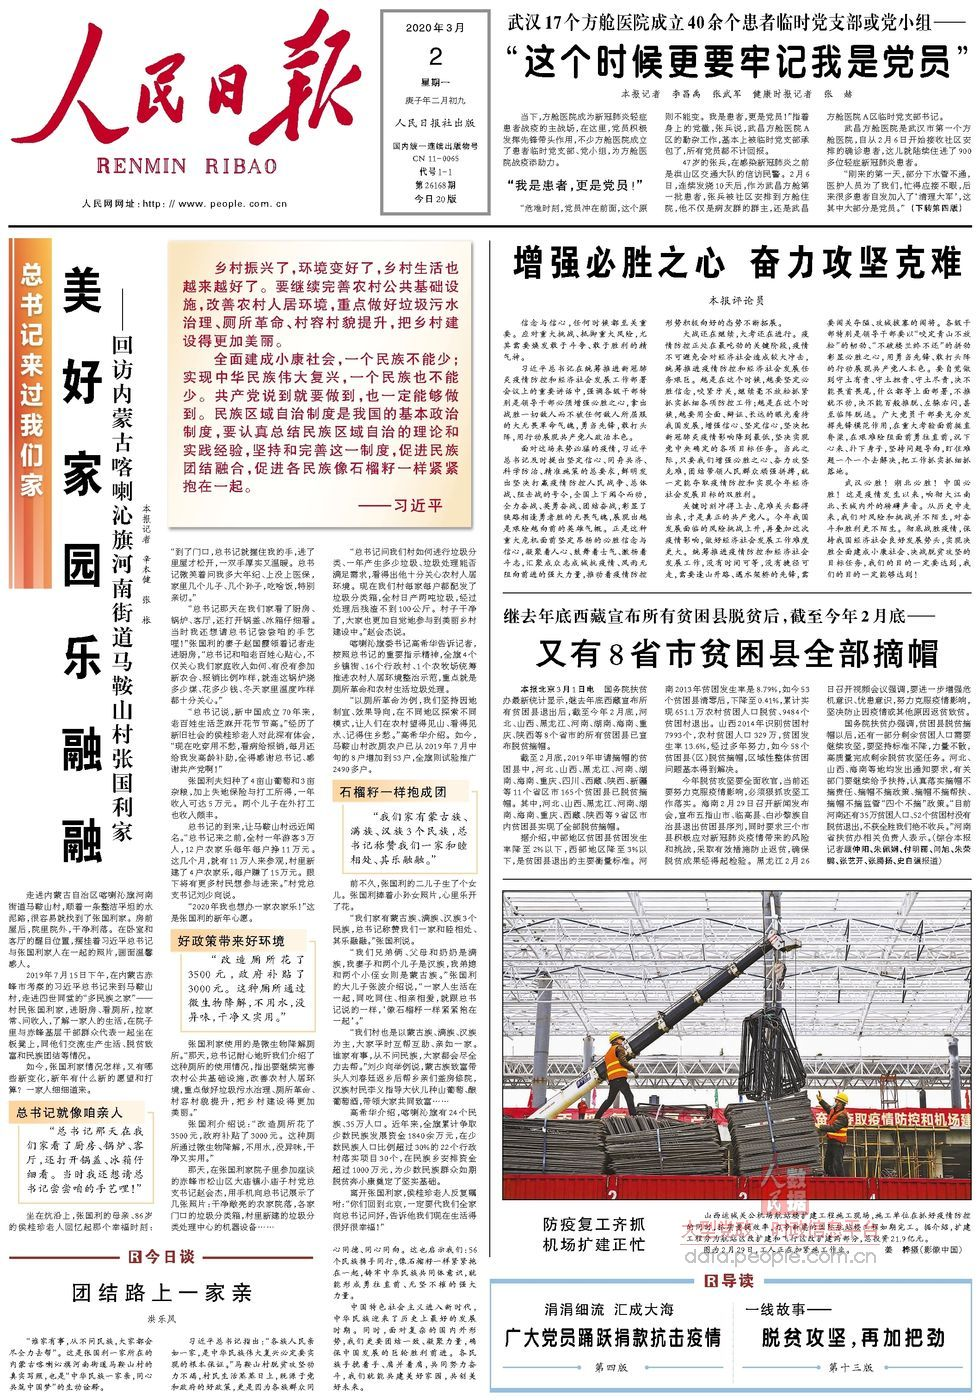pic: (497, 885, 977, 1207)
